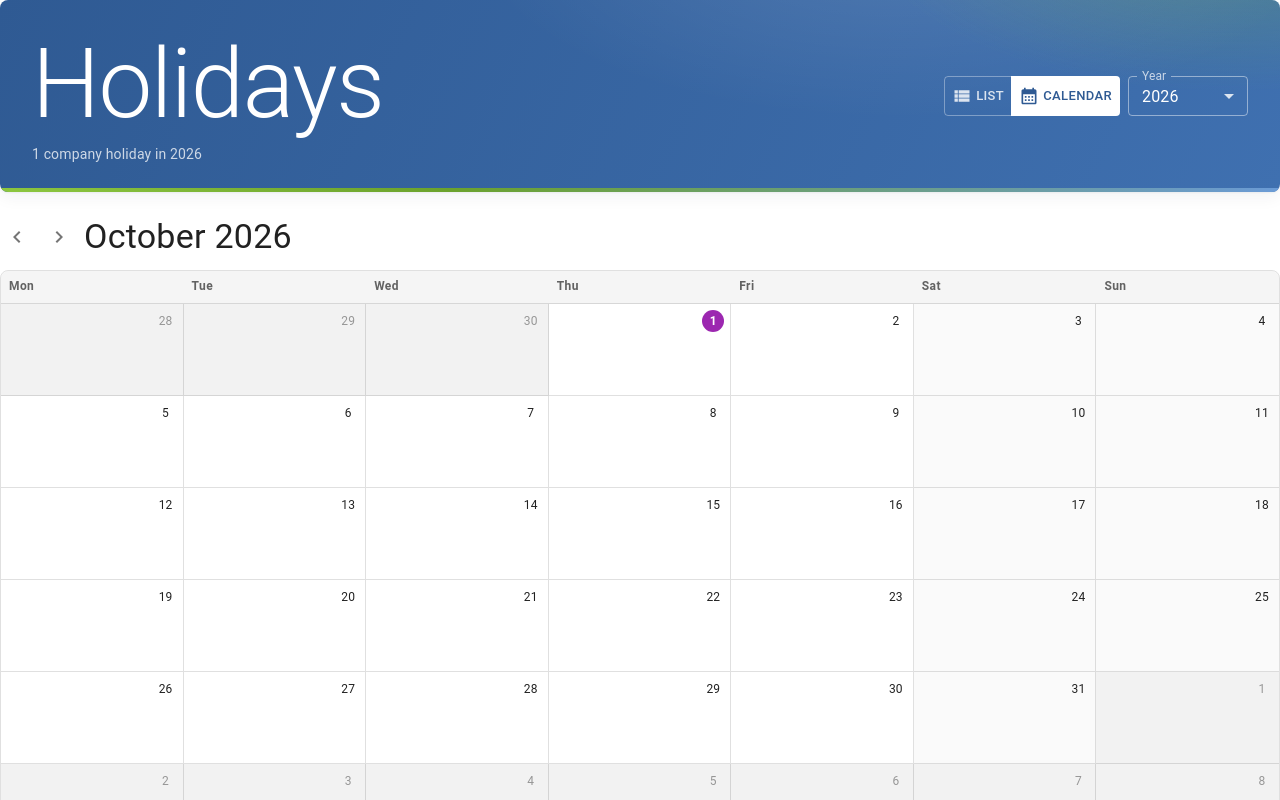
HolidaysPage management controls › shows no management controls to a plain employee
Click the button "List" at (978, 96), box [944,76,1012,116]
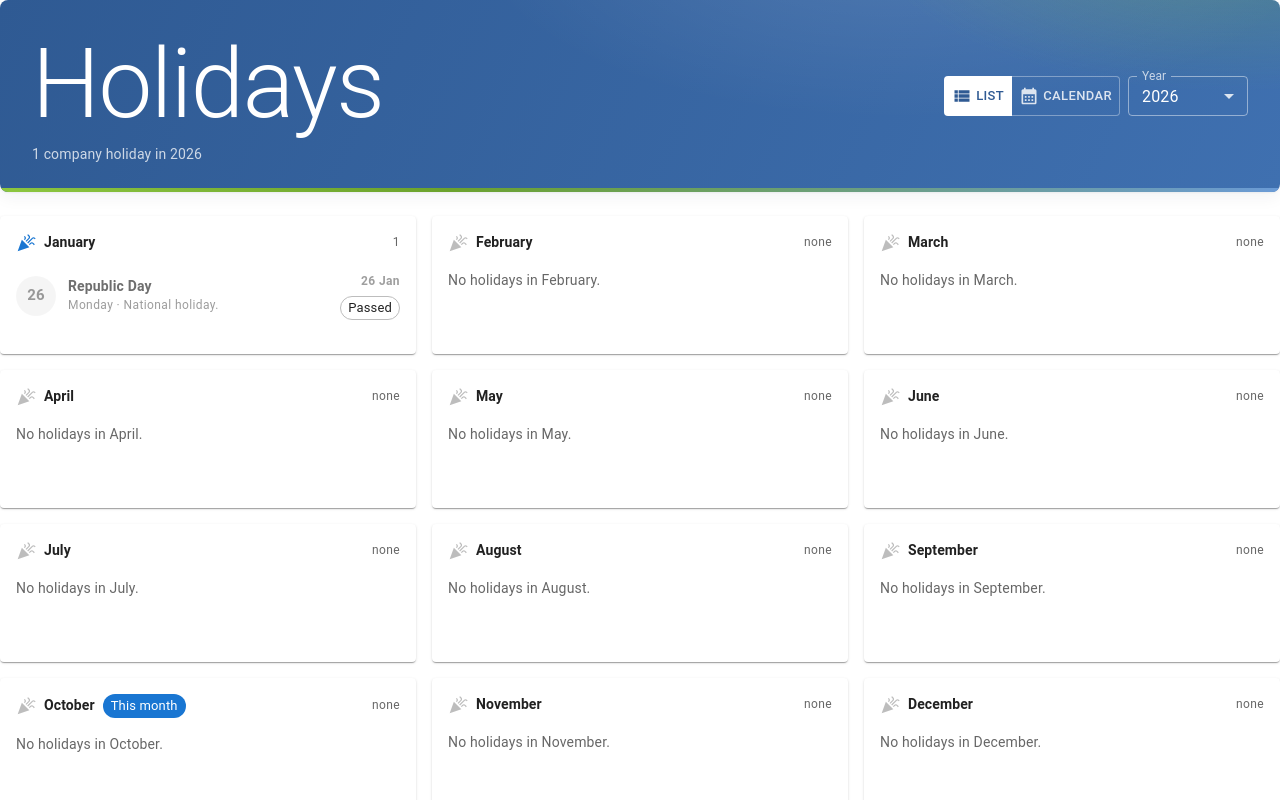
Expected: the text "Republic Day" is shown, [68,276,152,296]
